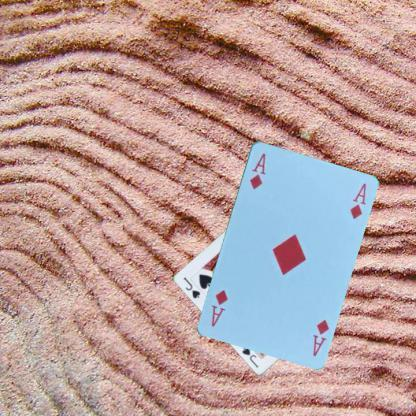Ad: (310, 316, 330, 358), (247, 150, 267, 190)
Js: (180, 274, 202, 300)
